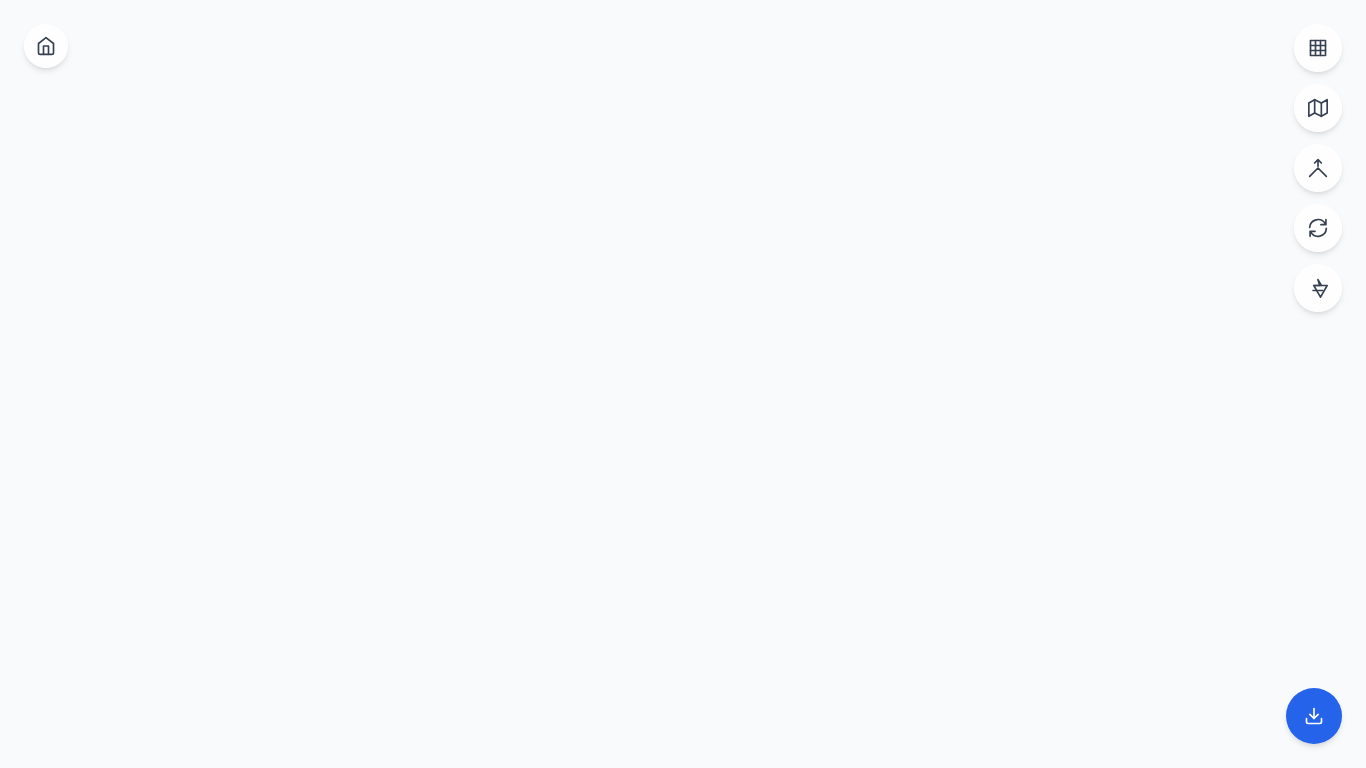
Scenario: PreviewPage › displays geometric rotation preset buttons
This screenshot has width=1366, height=768.
// Open the rotation control panel
Click the button titled "Rotate your model".
click(1318, 228)  # box left=1294, top=204, right=1342, bottom=252
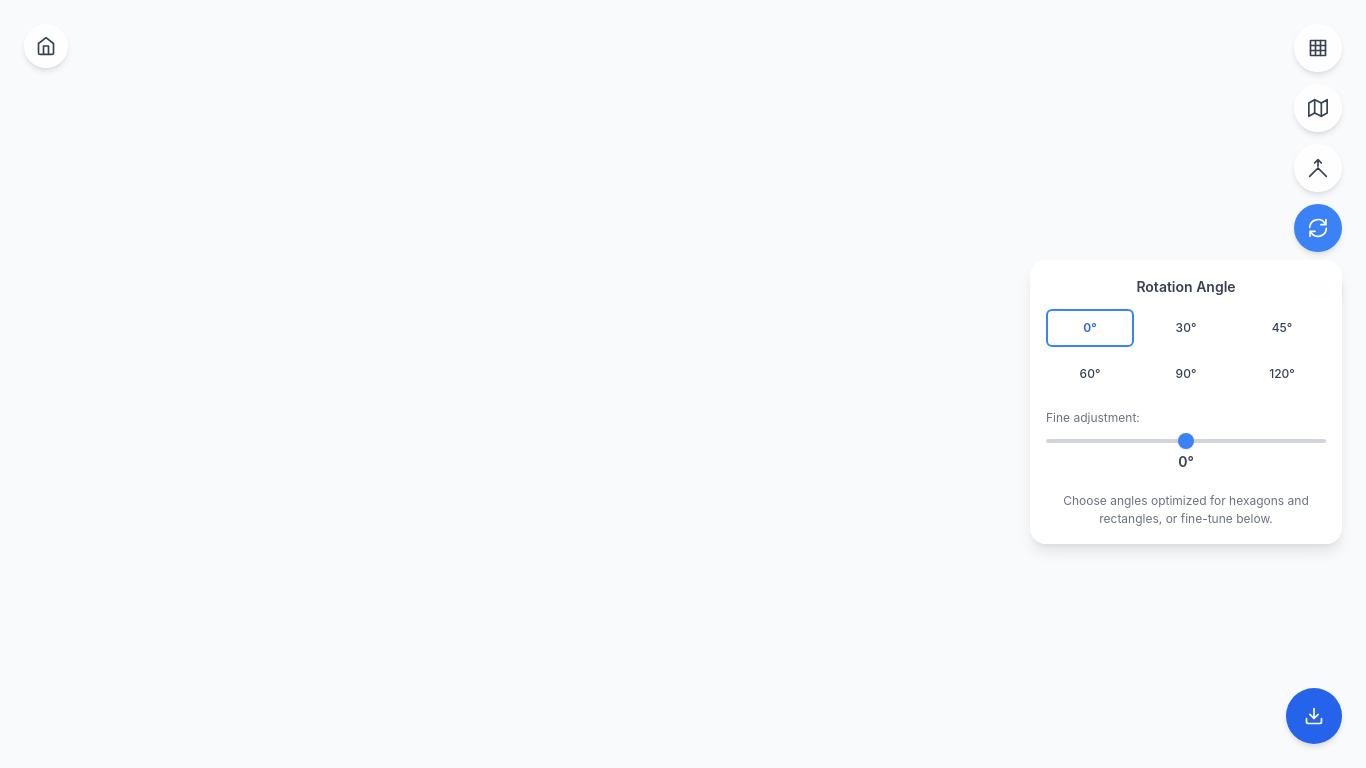
Now the button titled "Original orientation (0°)" is shown, box left=1046, top=309, right=1134, bottom=347
Now the button titled "30° - Half hexagon side" is shown, box left=1142, top=309, right=1230, bottom=347
Now the button titled "45° - Square/rectangle diagonal" is shown, box left=1238, top=309, right=1326, bottom=347
